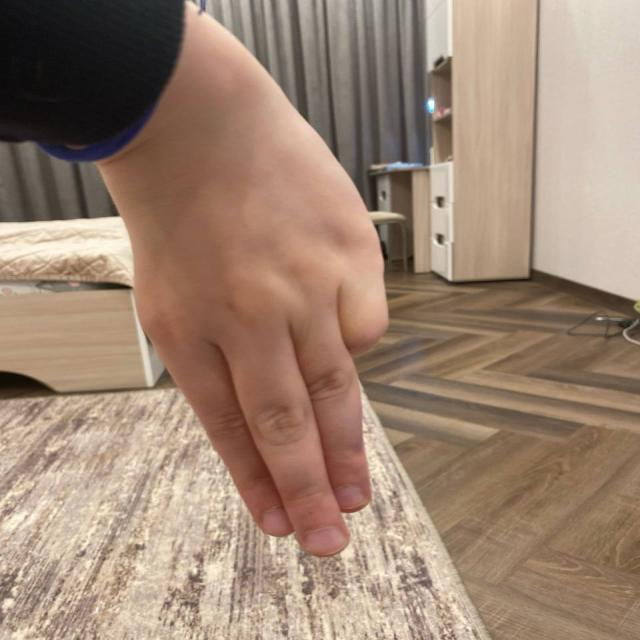t: (62, 178, 449, 582)
